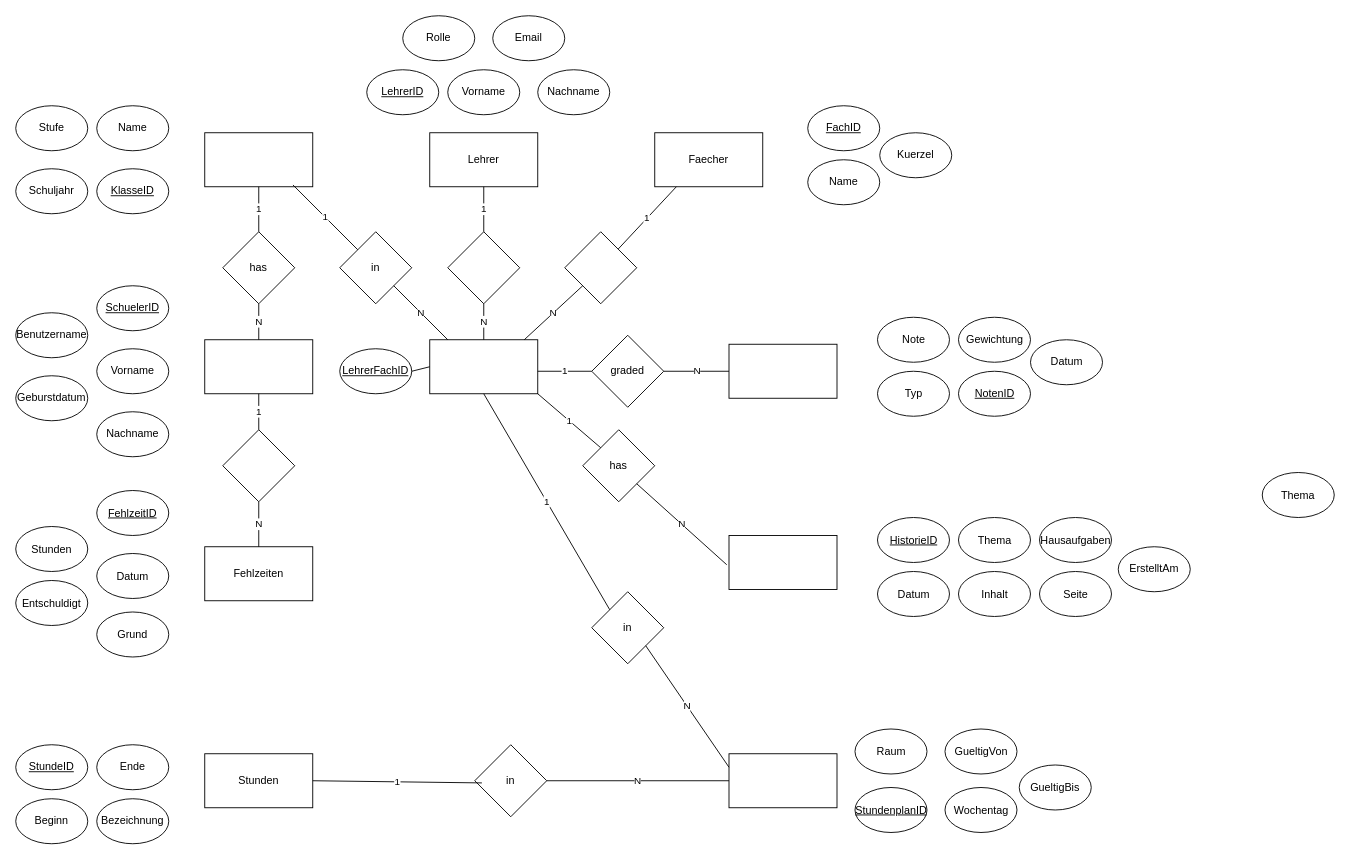
The diagram is 1350 pixels wide and 860 high, and some of its shapes have lost their labels. Here are the shapes that lost their labels. From the top down, the centre of each, then its label:
pixel 258 159: Klassen
pixel 483 267: teaches
pixel 600 267: for
pixel 258 366: Schueler
pixel 483 366: Lehrer_Fach
pixel 782 370: Noten
pixel 258 465: receives
pixel 782 562: Unterrichtshistorie
pixel 782 780: Stundenplan
